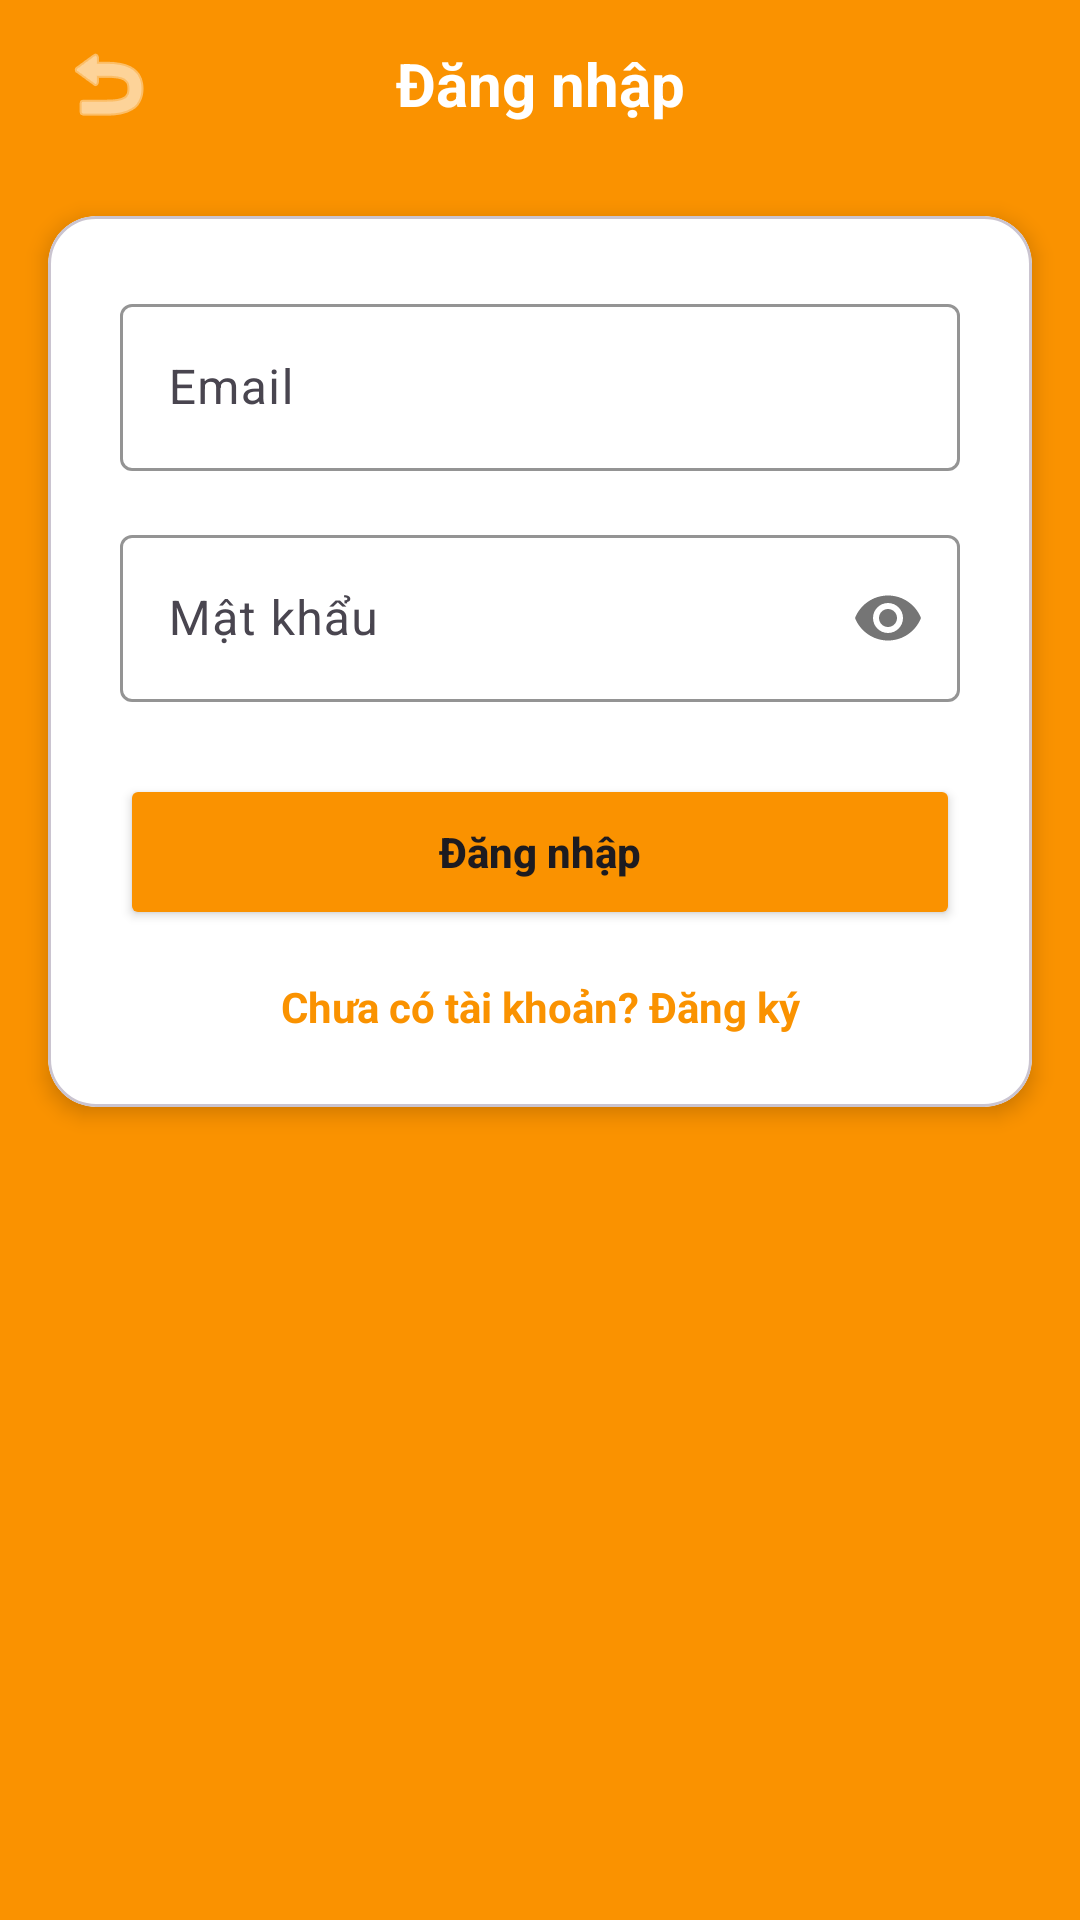

Icons on this 1080px x 1920px Android screen, each with its box as (left=x1, top=y1, right=x2, bottom=y2):
Back: (left=75, top=53, right=144, bottom=116)
